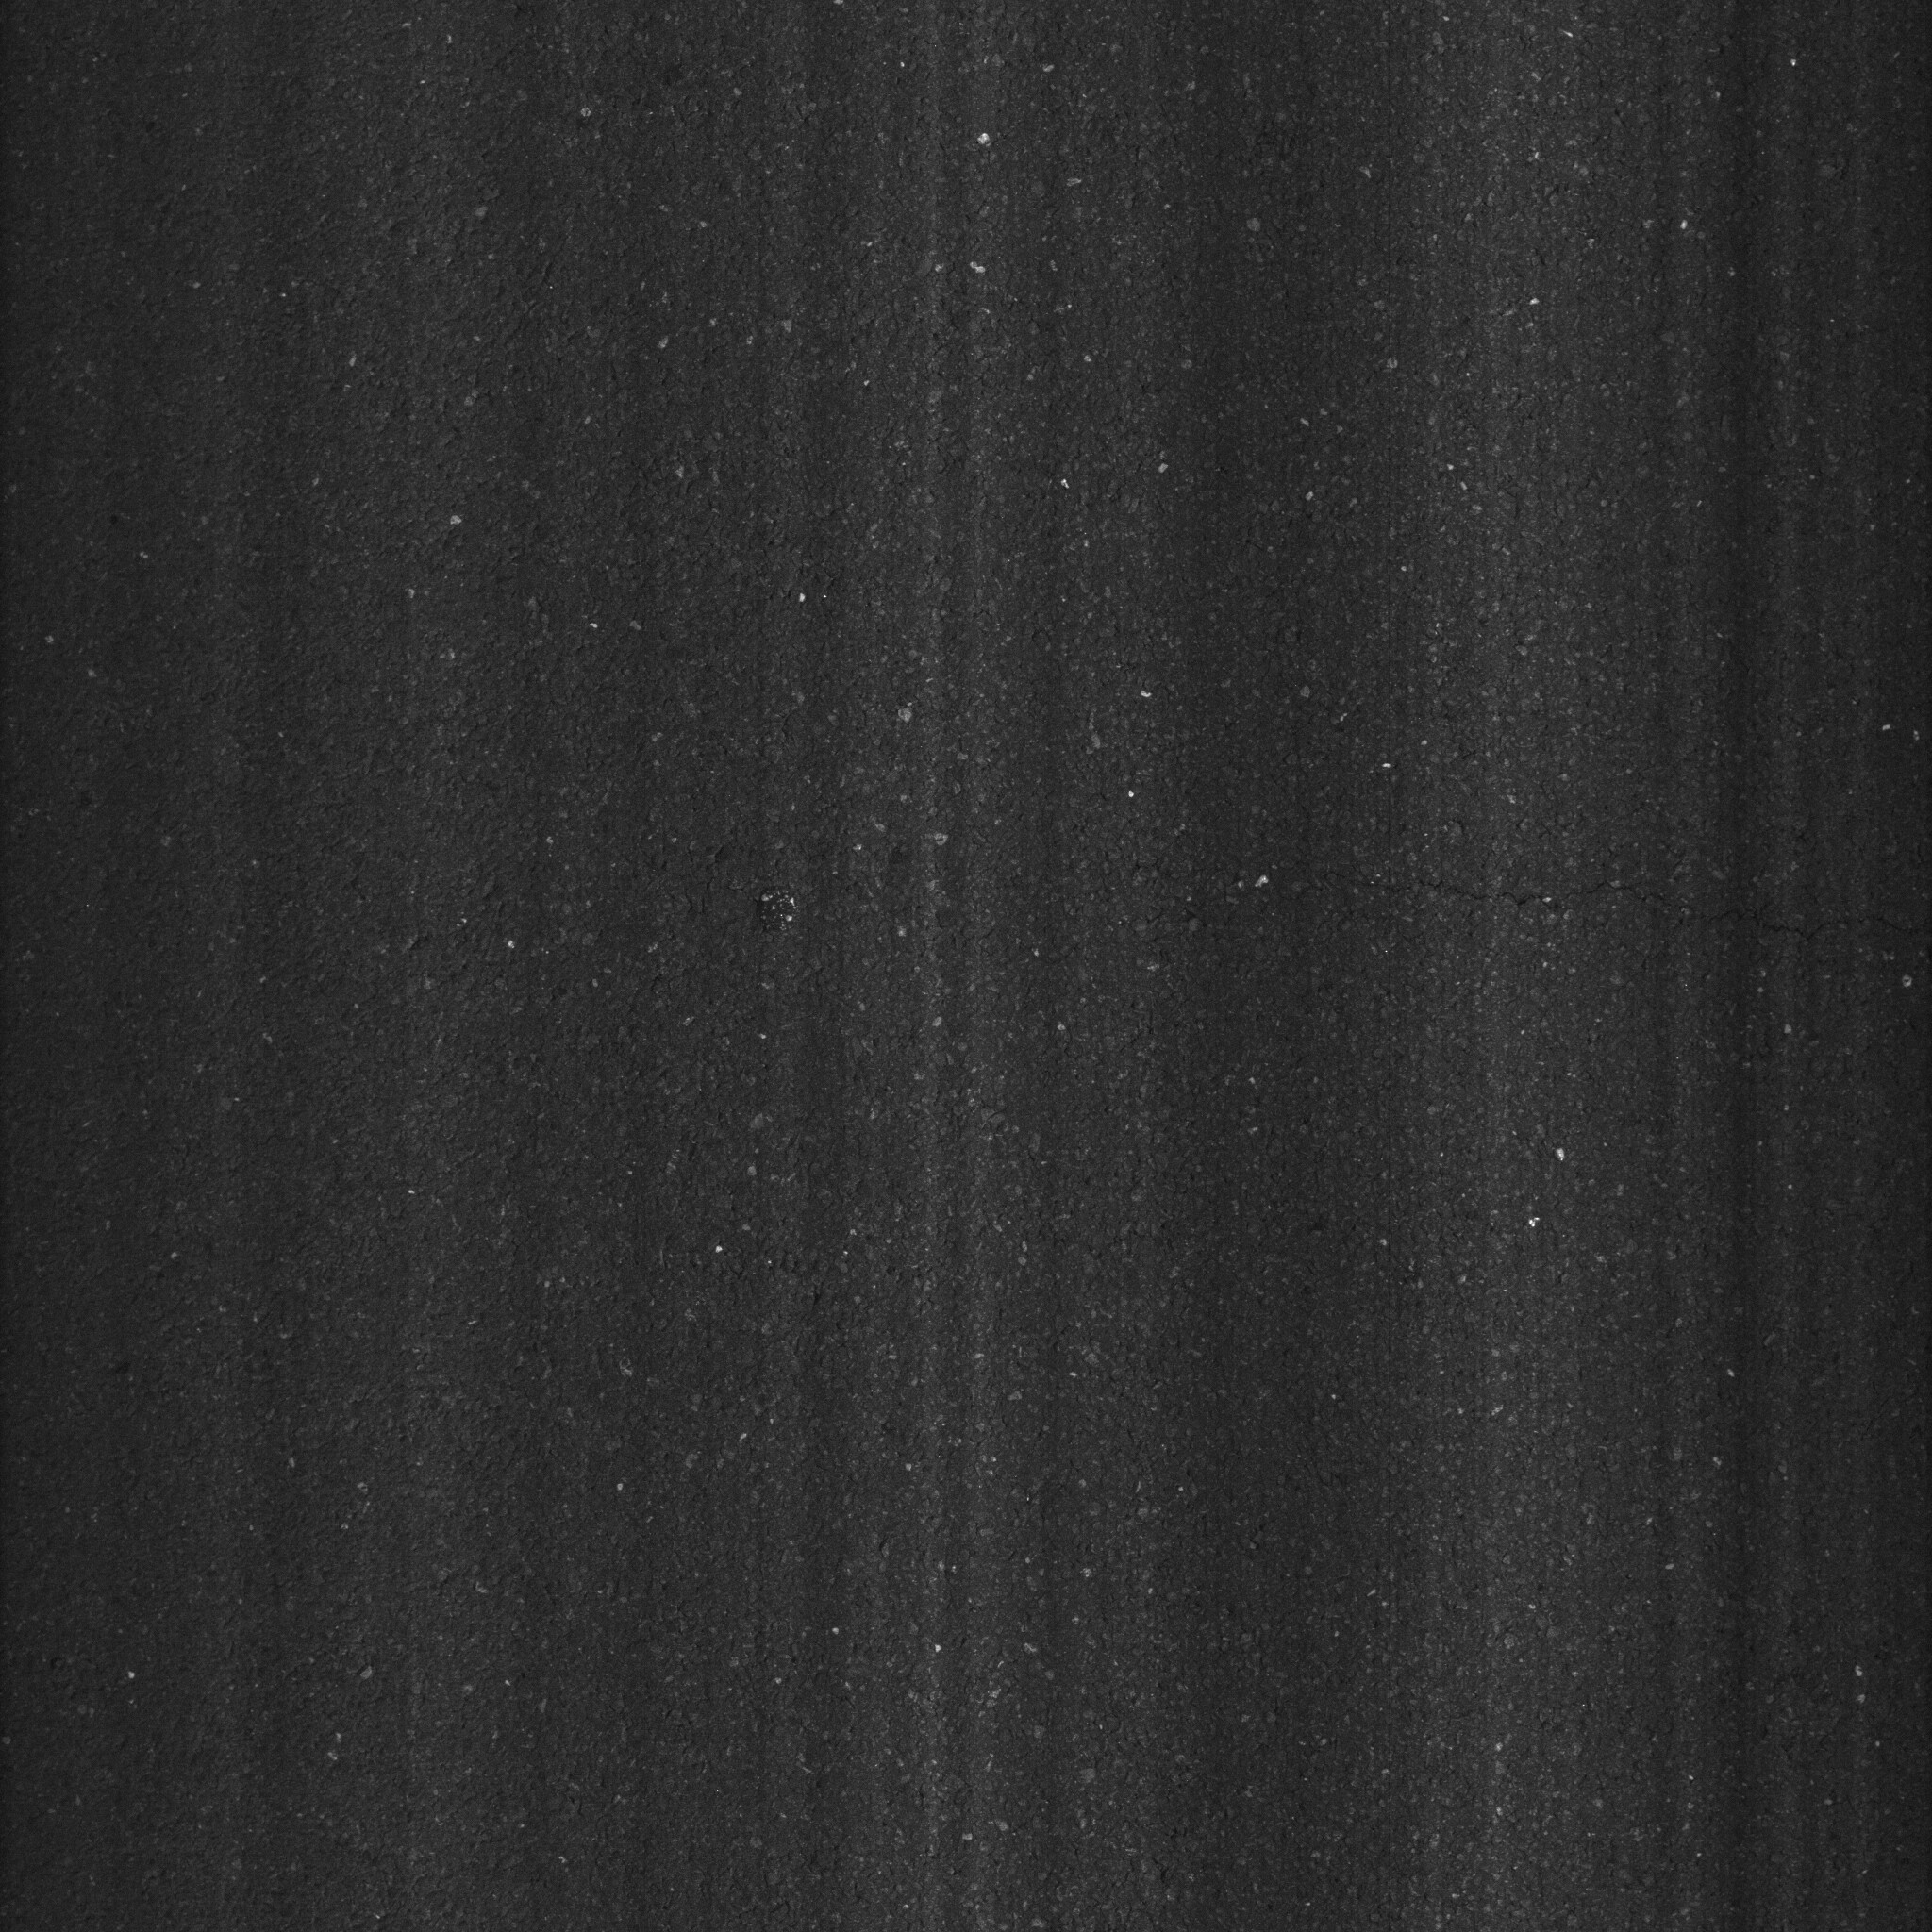transeverse: (1263, 851, 1932, 975)
